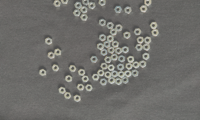nut: (140, 5, 148, 13), (152, 29, 160, 37), (143, 43, 151, 51), (137, 36, 145, 44), (134, 28, 142, 36), (115, 24, 123, 32), (99, 34, 107, 42), (104, 56, 112, 64), (53, 0, 61, 8), (78, 69, 86, 77), (64, 92, 72, 100), (39, 69, 47, 77), (45, 37, 53, 45), (150, 22, 158, 29), (143, 53, 150, 61), (140, 60, 147, 68), (125, 6, 132, 14), (124, 31, 131, 39), (115, 6, 123, 13), (133, 61, 140, 69), (127, 56, 135, 63), (125, 70, 132, 78), (122, 46, 129, 54), (118, 71, 125, 79), (117, 64, 125, 71), (115, 78, 122, 86), (110, 29, 118, 36), (107, 22, 115, 29), (99, 19, 106, 27), (115, 47, 122, 55), (112, 41, 120, 48), (107, 35, 114, 43), (111, 54, 119, 61), (104, 41, 111, 49), (108, 64, 115, 72), (105, 71, 112, 79), (97, 43, 104, 51), (100, 79, 108, 86), (92, 74, 100, 81), (89, 2, 96, 10), (81, 6, 88, 14), (82, 76, 90, 83), (77, 84, 85, 91), (74, 95, 81, 103), (69, 65, 77, 72), (66, 75, 73, 83), (59, 87, 66, 95), (52, 65, 60, 72), (145, 37, 152, 44), (136, 44, 143, 51), (132, 70, 139, 77), (126, 63, 133, 70), (122, 77, 129, 84), (108, 47, 115, 54), (112, 71, 119, 78), (101, 63, 108, 70), (101, 49, 108, 56), (91, 56, 98, 63), (98, 70, 105, 77), (81, 14, 88, 21), (75, 2, 82, 9), (86, 85, 93, 92), (55, 49, 62, 56), (48, 52, 55, 59), (119, 55, 125, 63), (109, 77, 115, 85), (99, 0, 106, 6), (83, 0, 90, 6), (145, 1, 152, 6), (61, 0, 69, 4)
